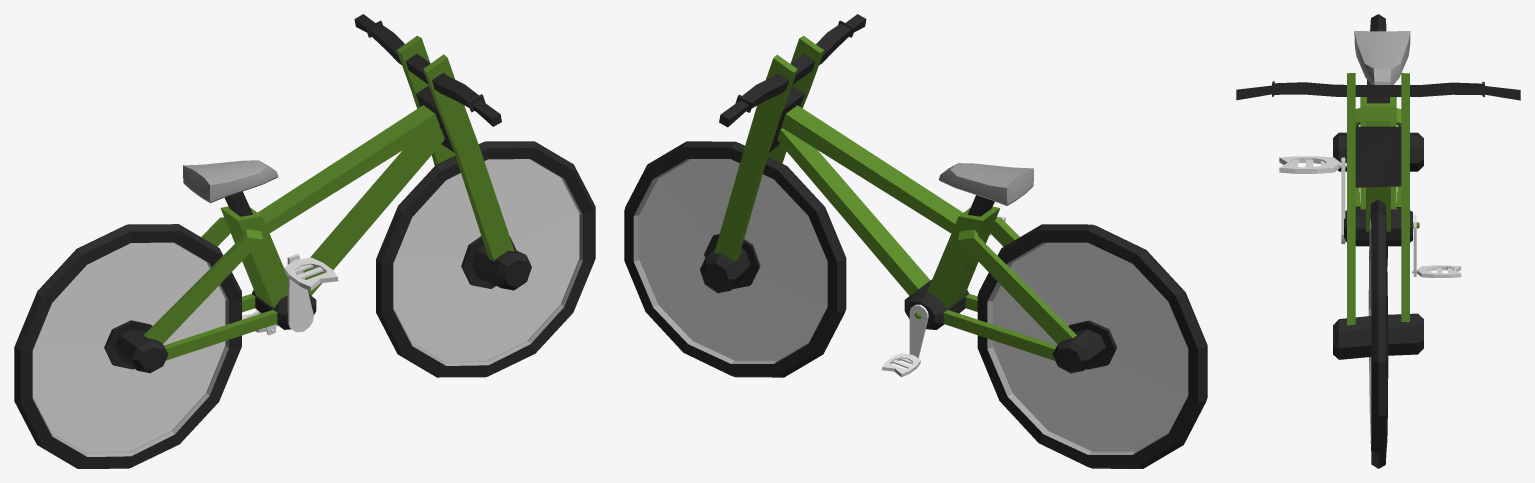
The model's file is Bike.fbx.
The picture shows the model from 3 angles, left to right: view 1: azimuth 30°, elevation 25°; view 2: azimuth 150°, elevation 25°; view 3: azimuth 270°, elevation 25°; orthographic projection. The views are drawn at different scales.
Visible parts, largest first — view 1: Back_Wheel.002, Bicycle, Back_Wheel.001, Rotor_Right; view 2: Back_Wheel.002, Bicycle, Back_Wheel.001, Rotor_Left; view 3: Bicycle, Back_Wheel.001, Rotor_Right, Rotor_Left.
Part boxes in pixels (x1,y1,x2,y2): Back_Wheel.002: (14, 224, 241, 468); Bicycle: (104, 14, 531, 373); Back_Wheel.001: (376, 141, 595, 377); Rotor_Right: (284, 253, 338, 332); Back_Wheel.002: (977, 224, 1207, 468); Bicycle: (700, 14, 1117, 373); Back_Wheel.001: (624, 141, 846, 377); Rotor_Left: (881, 304, 928, 377); Bicycle: (1236, 31, 1520, 359); Back_Wheel.001: (1368, 199, 1388, 468); Rotor_Right: (1279, 156, 1346, 243); Rotor_Left: (1412, 214, 1461, 277).
Bounding box in the file's own units: 2.49 × 1.42 × 1.02.
